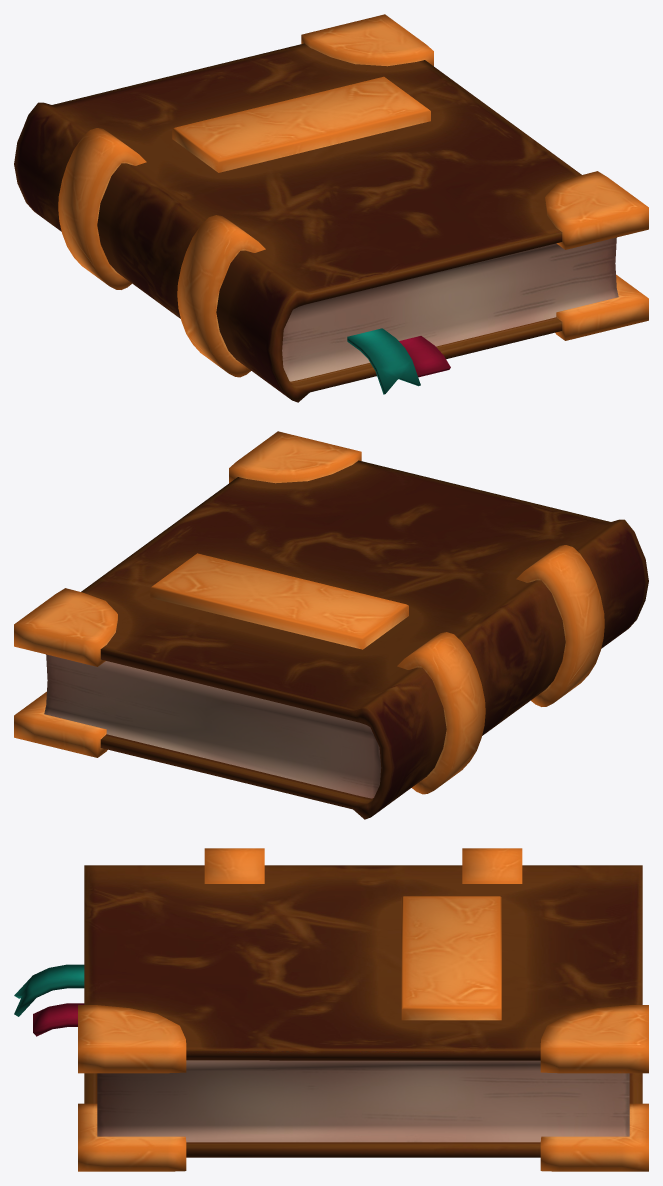
3 views of the same model, one above another, from view 1: azimuth 30°, elevation 25°; view 2: azimuth 150°, elevation 25°; view 3: azimuth 270°, elevation 25° (orthographic). The views are drawn at different scales.
Visible parts, largest first — view 1: Book_Low, Metal1_Low, Metal3_Low, Metal2_Low, Ribbon_Low, Ribbon2_Low; view 2: Book_Low, Metal1_Low, Metal3_Low, Metal2_Low; view 3: Book_Low, Metal3_Low, Metal2_Low, Metal1_Low, Ribbon_Low, Ribbon2_Low.
Part boxes in pixels (<box>): Book_Low: <box>14,43,618,402</box>; Metal1_Low: <box>58,128,265,377</box>; Metal3_Low: <box>301,14,648,340</box>; Metal2_Low: <box>172,76,430,172</box>; Ribbon_Low: <box>347,328,420,394</box>; Ribbon2_Low: <box>399,336,450,377</box>; Book_Low: <box>44,460,648,819</box>; Metal1_Low: <box>397,545,604,794</box>; Metal3_Low: <box>14,431,361,757</box>; Metal2_Low: <box>150,553,408,649</box>; Book_Low: <box>84,865,642,1157</box>; Metal3_Low: <box>78,1005,648,1171</box>; Metal2_Low: <box>401,896,501,1020</box>; Metal1_Low: <box>204,848,522,883</box>; Ribbon_Low: <box>14,964,84,1016</box>; Ribbon2_Low: <box>33,1003,84,1036</box>.
Size of the model in its own units: 240 by 84.13 by 317.
Materials: 1 (1 with a texture image).
